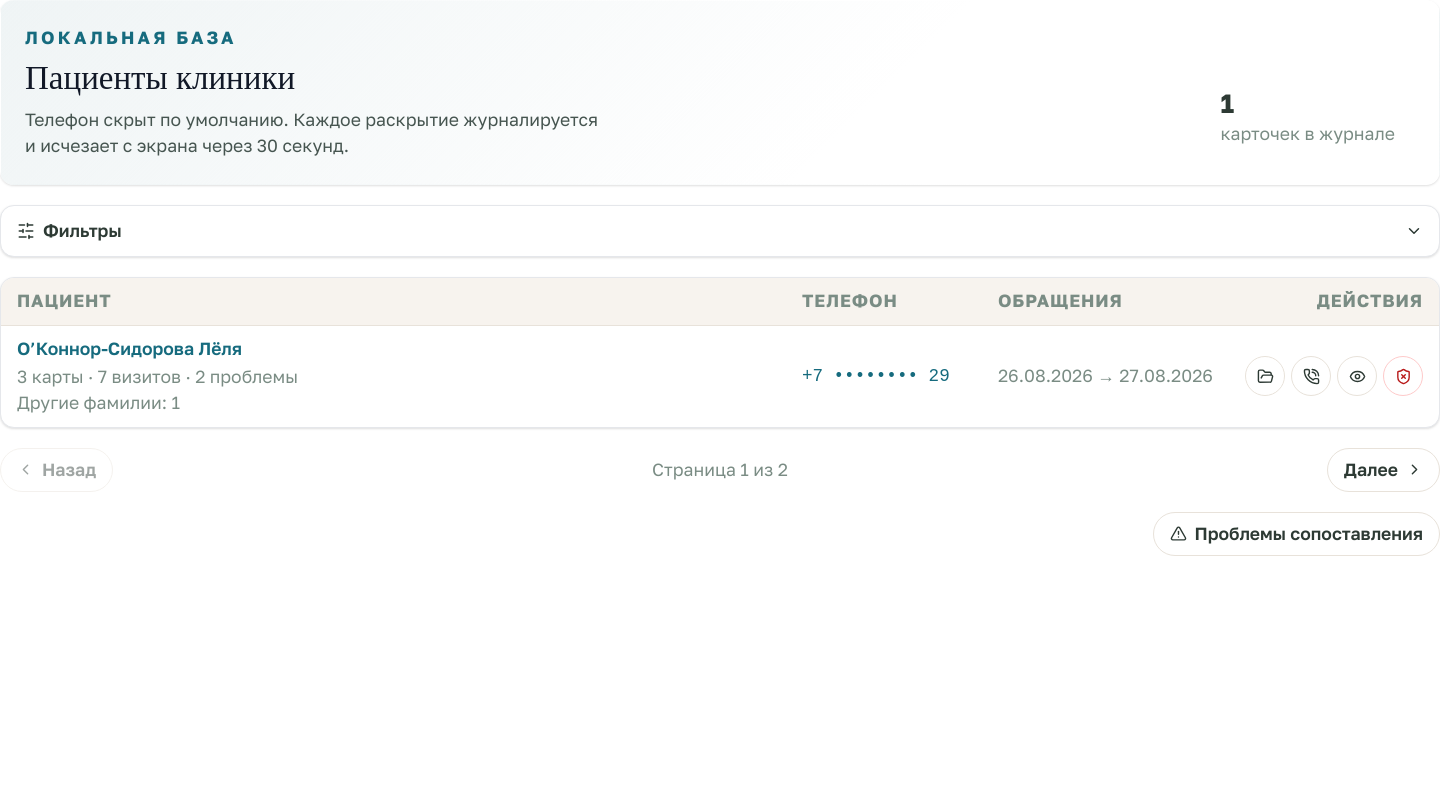
Test: Patients admin view › requires dialog confirmation and renders an anonymized patient after destruction
Expected: the link "О’Коннор-Сидорова Лёля" is shown, [17,338,242,359]
Click the button named "Уничтожить данные О’Коннор-Сидорова Лёля" at (1403, 376), box [1383,356,1423,396]
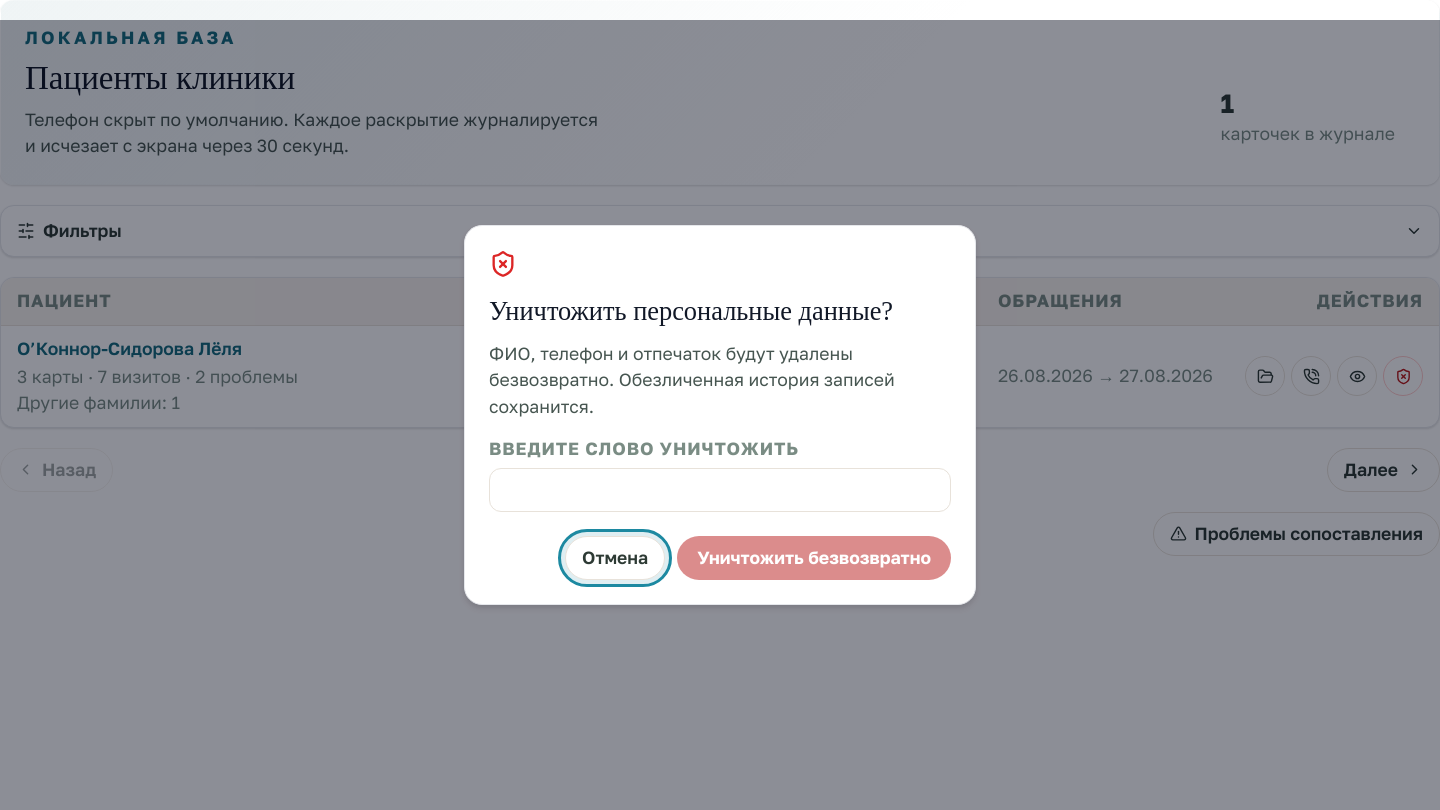
Type "УНИЧТОЖИТЬ" into the field labelled "Введите слово УНИЧТОЖИТЬ" at (720, 490), box [489,468,951,512]
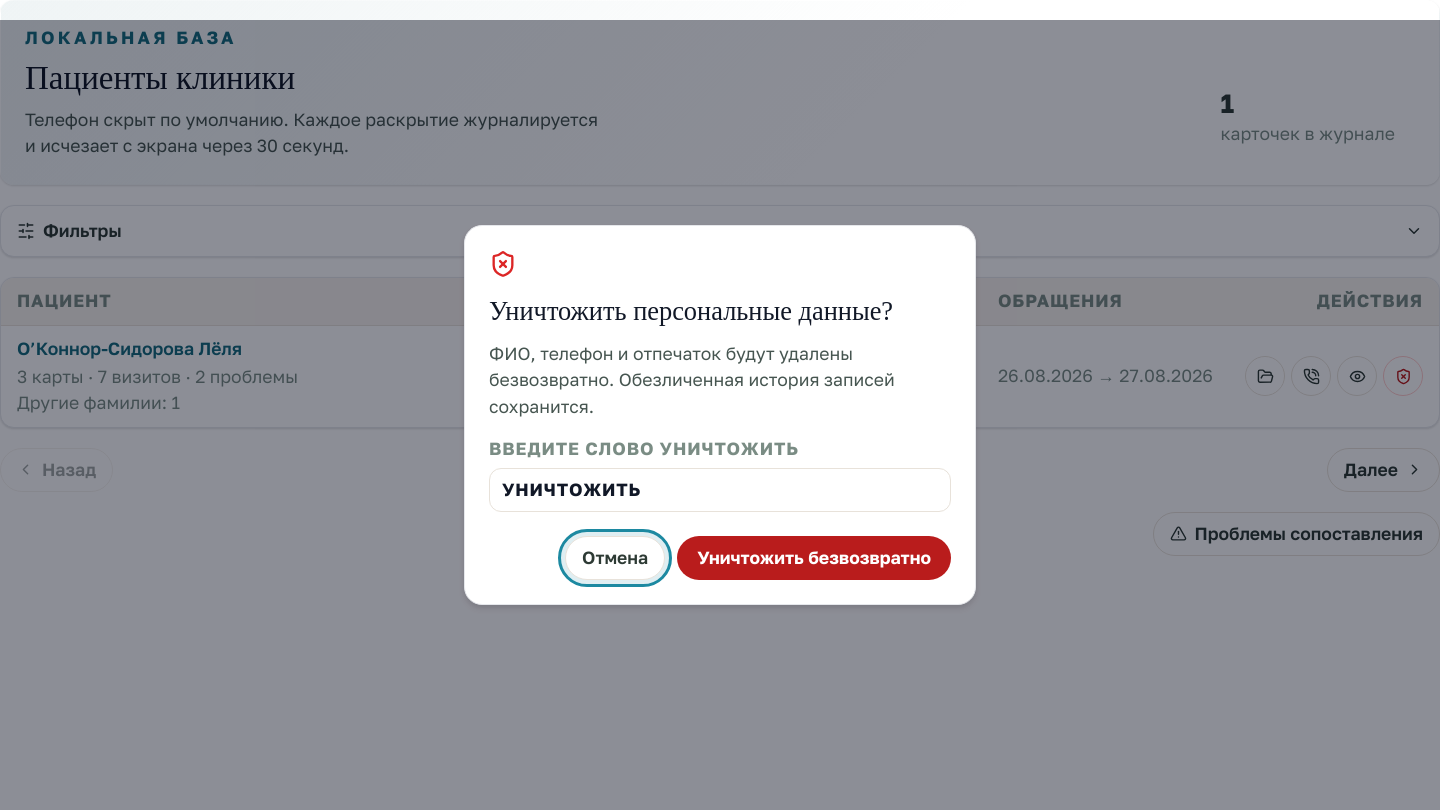
Click the button "Уничтожить безвозвратно" at (814, 558), box [677,536,951,580]
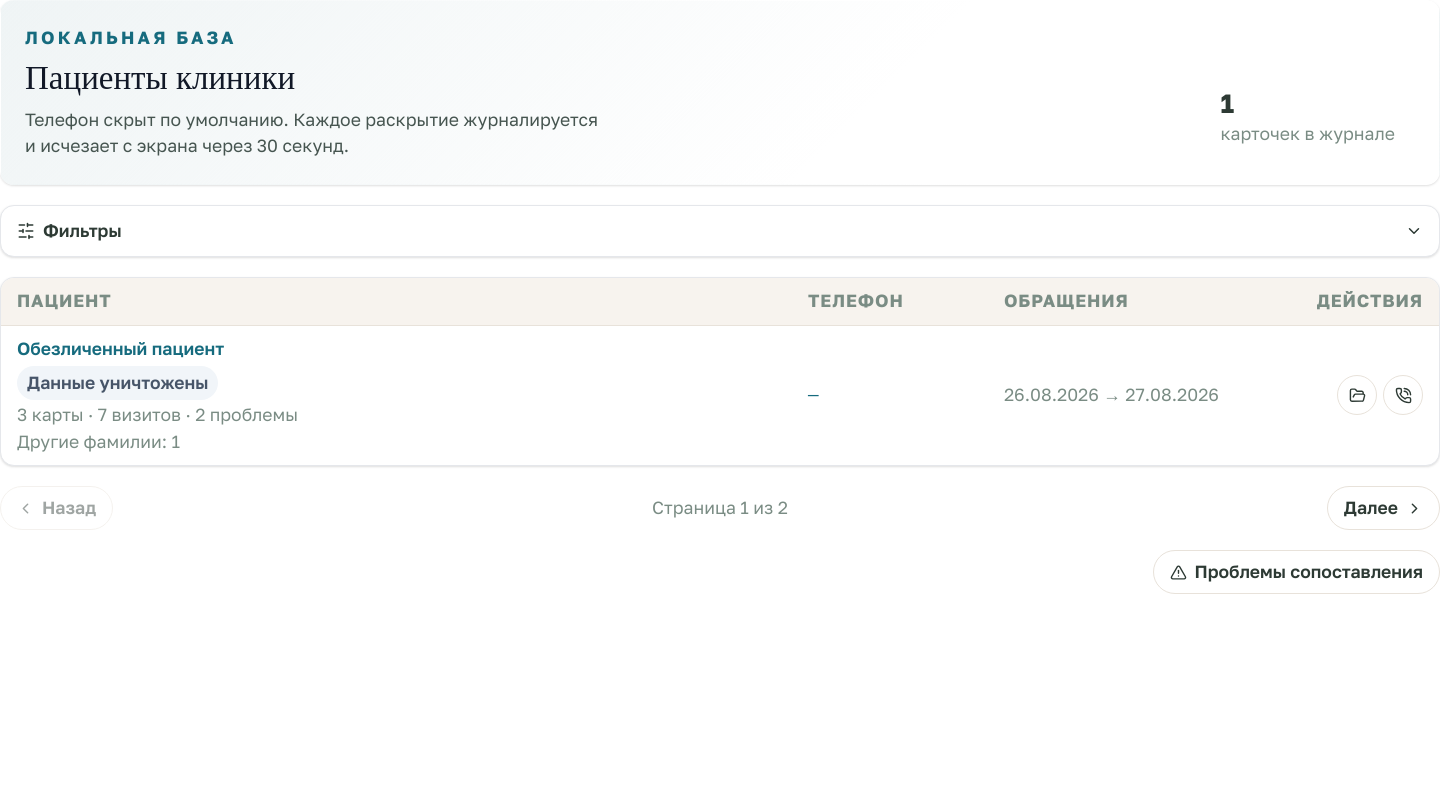
Expected: the text "Данные уничтожены" is shown, [17,366,218,400]
